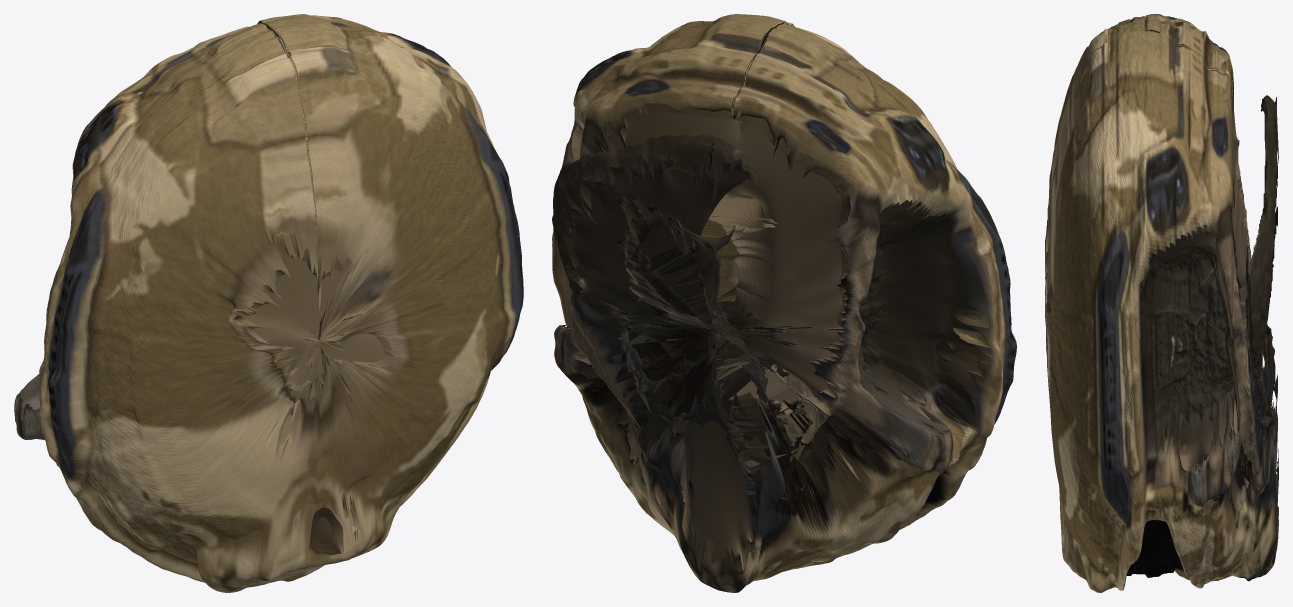
Rendered from mesh_inpaint.glb.
3 renders of one model, left to right at view 1: azimuth 30°, elevation 25°; view 2: azimuth 150°, elevation 25°; view 3: azimuth 270°, elevation 25°, orthographic. The views are drawn at different scales.
Parts seen in each view (by area): view 1: ipn, fill; view 2: ipn, fill; view 3: ipn, fill.
Part boxes in pixels (x1,y1,x2,y2): ipn: (14,14,523,592); fill: (17,232,394,555); ipn: (552,14,1016,592); fill: (559,103,990,570); ipn: (1045,14,1278,592); fill: (1045,73,1278,548).
Size of the model in its own units: 1.78 by 1.97 by 0.7632.
Materials: 2 (1 with a texture image).
